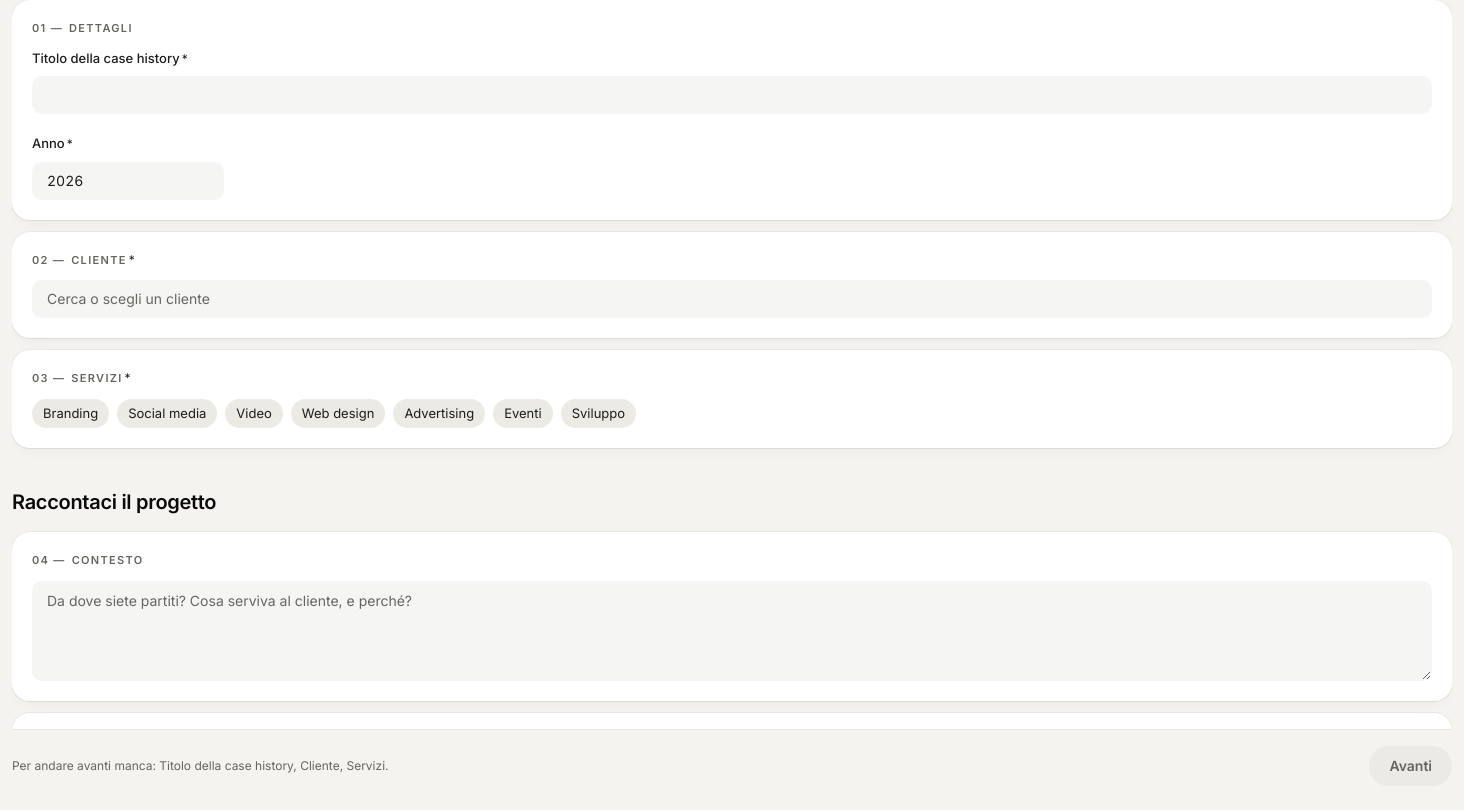
Test: CaseDetailsStep, a new case › pressing the inactive Avanti sends nothing and names each missing field, focusing the first
Click the button "Avanti": (1411, 766) [1369,746,1452,786]
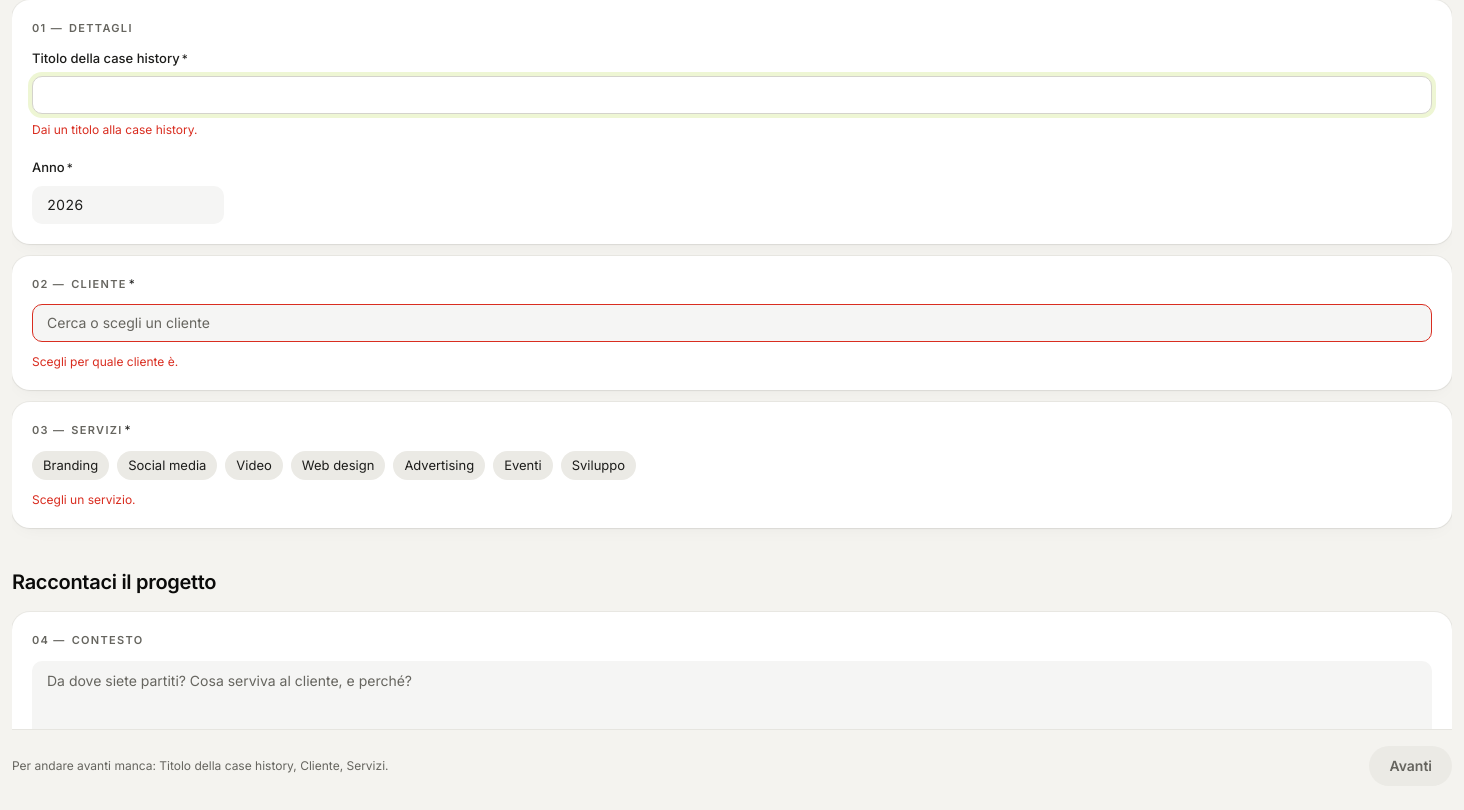
Expected: the text "Dai un titolo alla case history." is shown, [32,122,197,137]
Expected: the text "Scegli per quale cliente è." is shown, [32,354,178,369]
Expected: the text "Scegli un servizio." is shown, [32,492,136,507]
